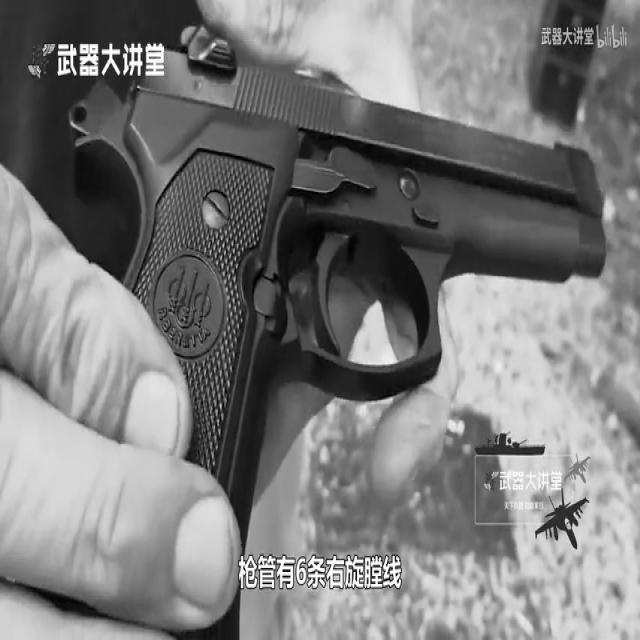Hand-Gun: (54, 0, 616, 640)
